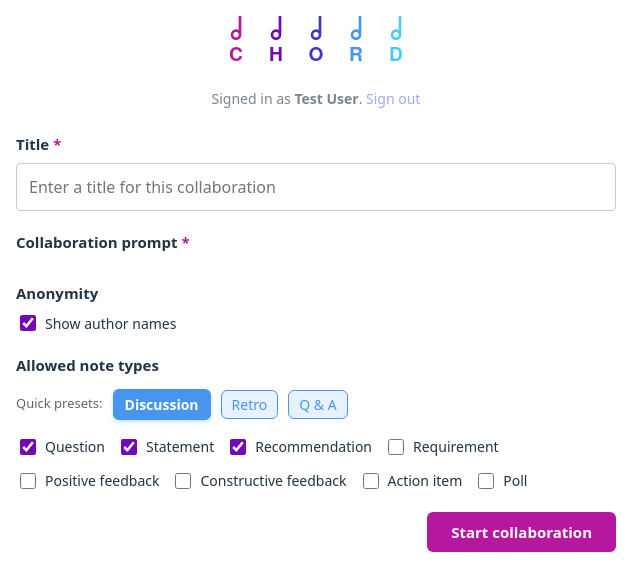
it: StartScreen › changes note types when Q & A preset is clicked
This screenshot has width=633, height=569.
What coordinates should you click on to do the following:
click the button "Q & A"
I would click on:
 (318, 404)
Its box is [288,390,348,419].
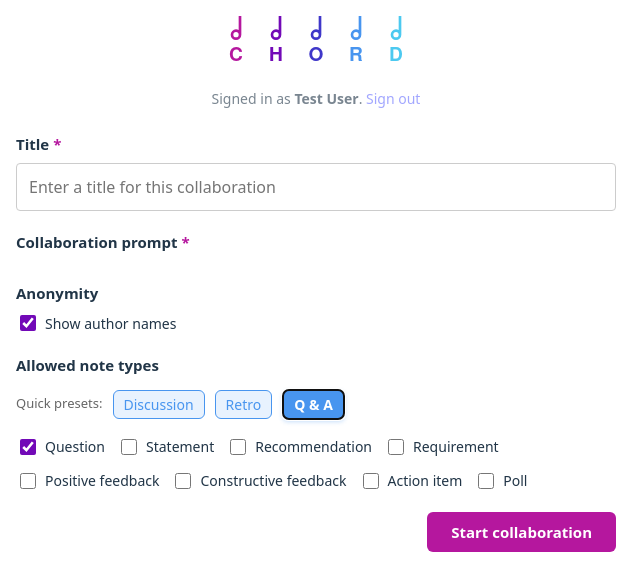
Expected: the checkbox labelled "Question" is checked, [20,439,36,455]
Now the checkbox labelled "Statement" is not checked, box [121,439,137,455]
Now the checkbox labelled "Recommendation" is not checked, box [230,439,246,455]
